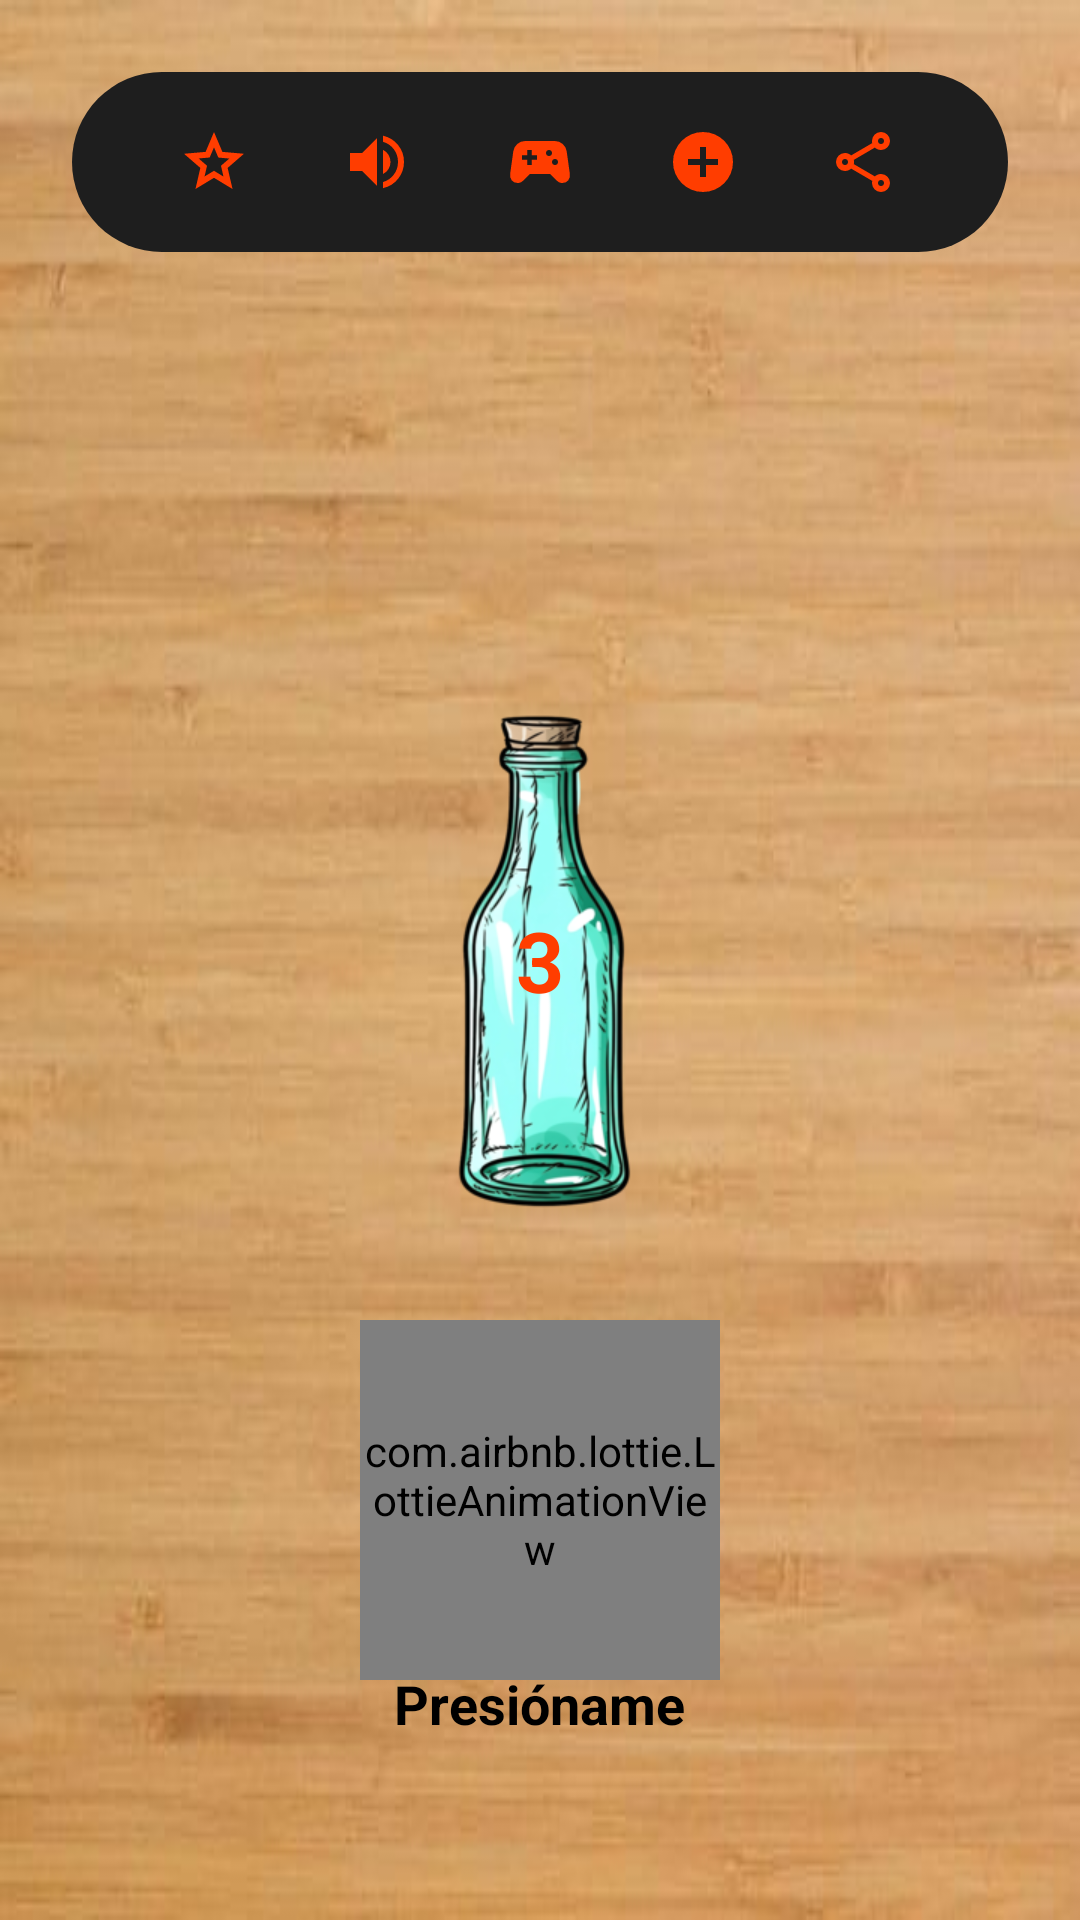

Where icons sit on this 1080px x 1920px app screen, as region(x1, y1, x2, y2):
add circle: region(673, 132, 733, 192)
share: region(836, 132, 890, 192)
sports esports: region(510, 141, 570, 183)
star: region(184, 132, 244, 189)
volume up: region(350, 135, 404, 188)
